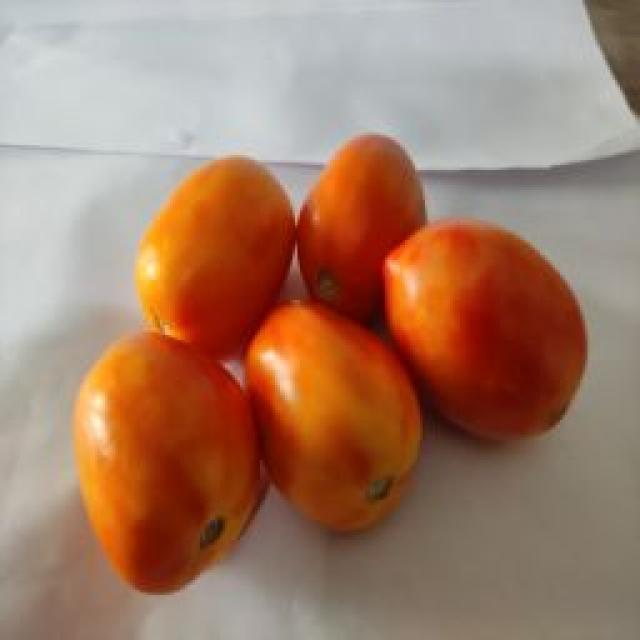tomato: (74, 331, 266, 594), (383, 224, 586, 444), (247, 306, 425, 538), (137, 148, 296, 347), (294, 132, 432, 312)
